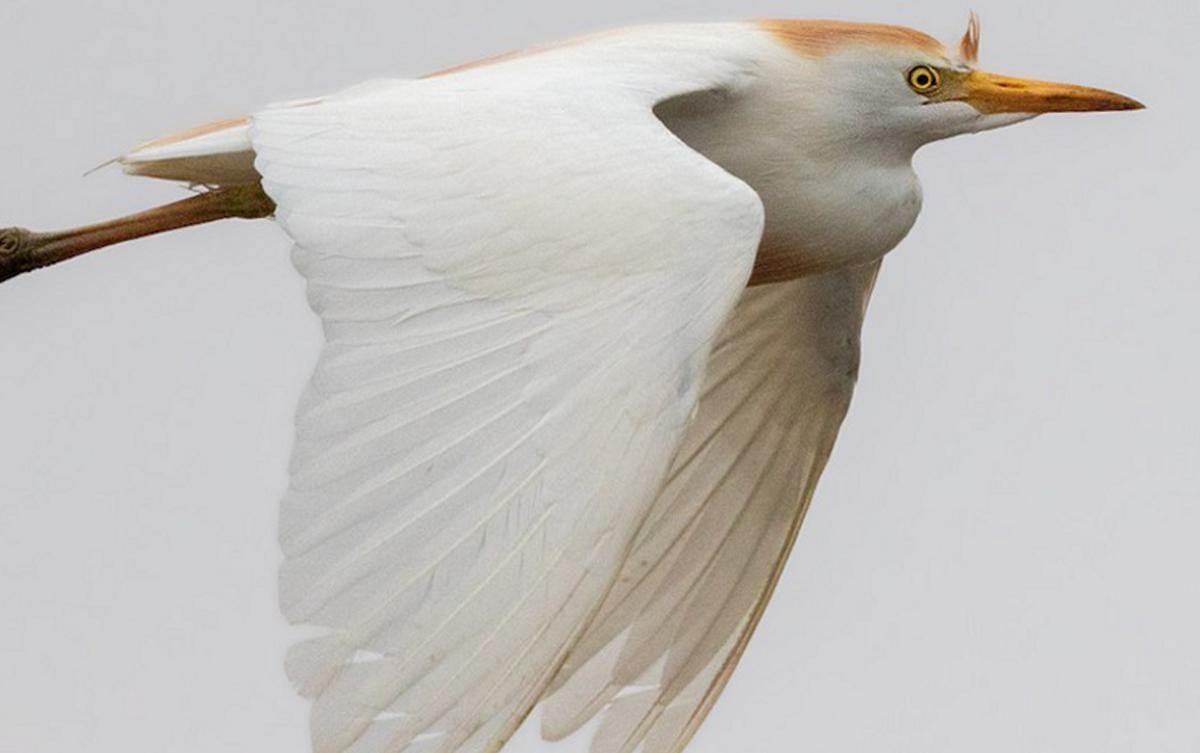egret: (26, 39, 1127, 753)
